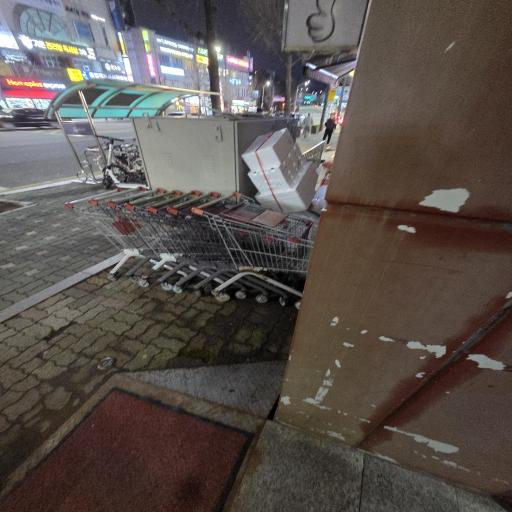combined_cart: (62, 184, 317, 308)
